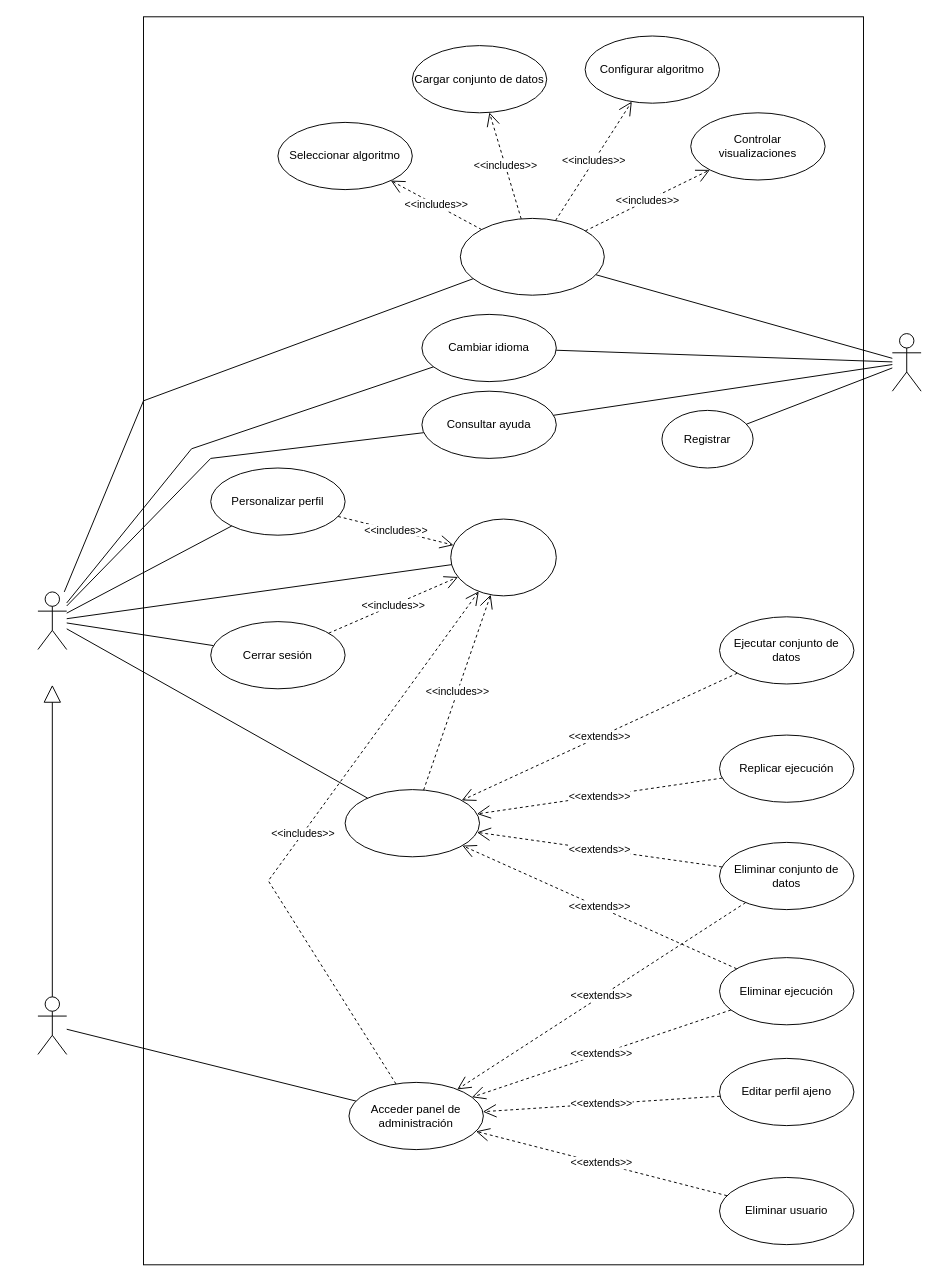
This 946x1282 diagram has some shape labels left out. The shapes that lost their labels are listed below. From the top down, each one's box as (x1, y1, x2, y2) in pixels, then its label:
(459, 217, 604, 295): Visualizar algoritmo
(891, 333, 921, 391): Anónimo
(450, 518, 556, 596): Iniciar sesión
(37, 591, 67, 650): Usuario
(344, 789, 480, 857): Acceder espacio personal
(37, 996, 67, 1054): Administrador
